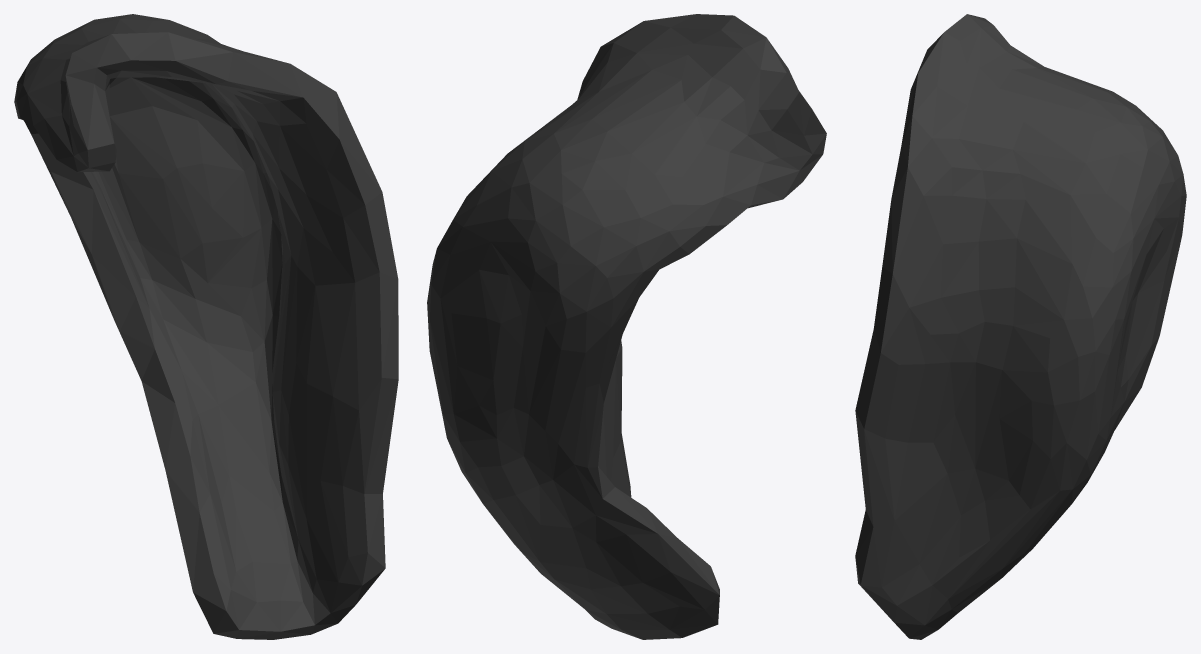
Rendered from Calcaneus_sustentaculum_tali.glb.
3 renders of one model, left to right at view 1: azimuth 30°, elevation 25°; view 2: azimuth 150°, elevation 25°; view 3: azimuth 270°, elevation 25°, orthographic. The views are drawn at different scales.
Visible parts, largest first — view 1: Calcaneus_sustentaculum_tali; view 2: Calcaneus_sustentaculum_tali; view 3: Calcaneus_sustentaculum_tali.
Boxes of the visible parts, x1,y1,x2,y2 form: Calcaneus_sustentaculum_tali: (14, 14, 398, 639); Calcaneus_sustentaculum_tali: (427, 14, 826, 639); Calcaneus_sustentaculum_tali: (855, 14, 1186, 639).
Bounding box in the file's own units: 0.0109 × 0.0218 × 0.0119.
1 material, 1 textured.
